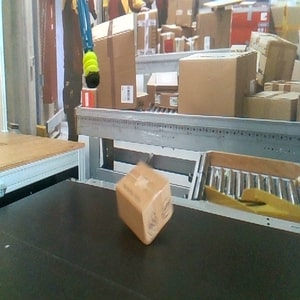box: (115, 160, 175, 246)
